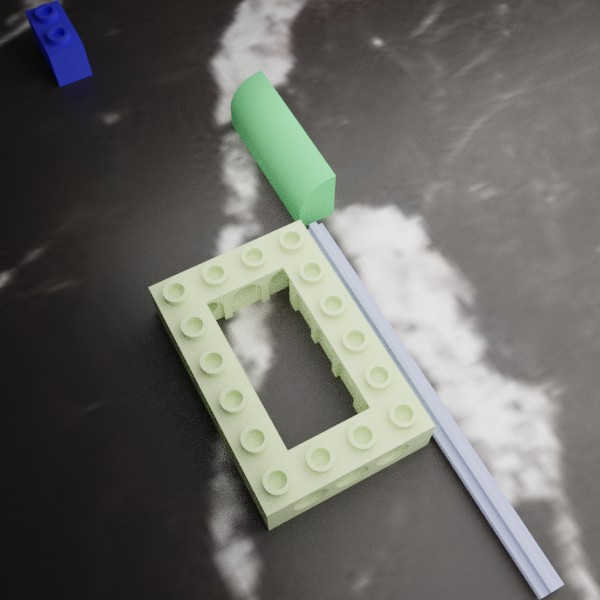lego: (302, 221, 564, 599), (148, 219, 435, 530), (230, 70, 335, 228), (25, 0, 92, 87)
